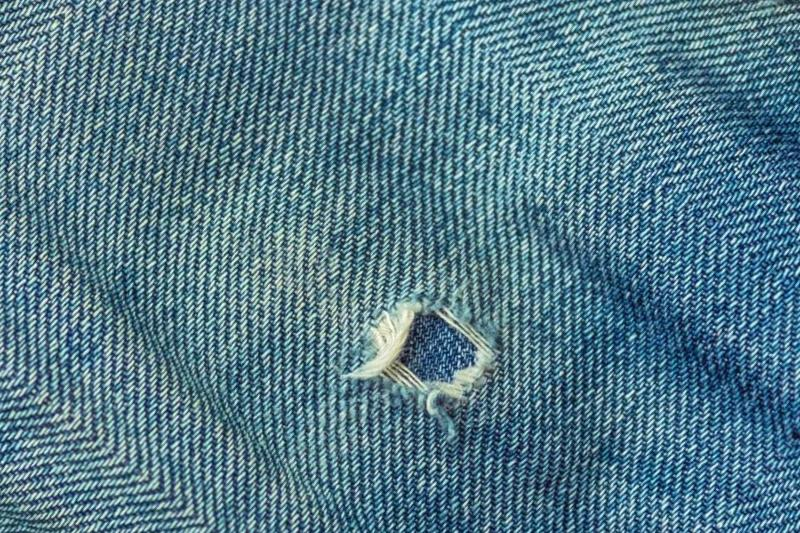hole: (362, 287, 508, 433)
